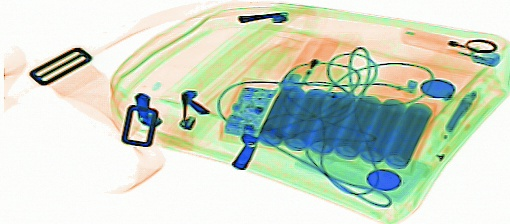lighter: (399, 22, 500, 66), (274, 33, 338, 97)
powerbank: (218, 77, 435, 170)
